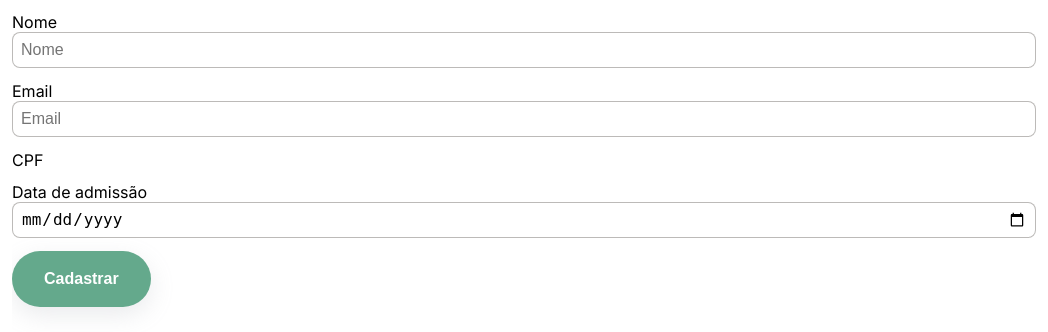
Scenario: <RegisterForm /> › should be able to validate Name field
Step 1. Type "l" into the field labelled "Nome" → (524, 50), box [12, 32, 1036, 68]
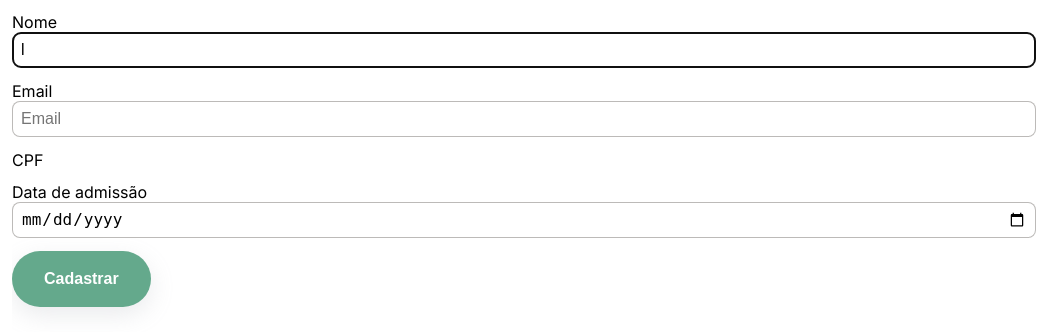
Step 2. Click the button "Cadastrar" → (81, 279), box [12, 251, 151, 307]
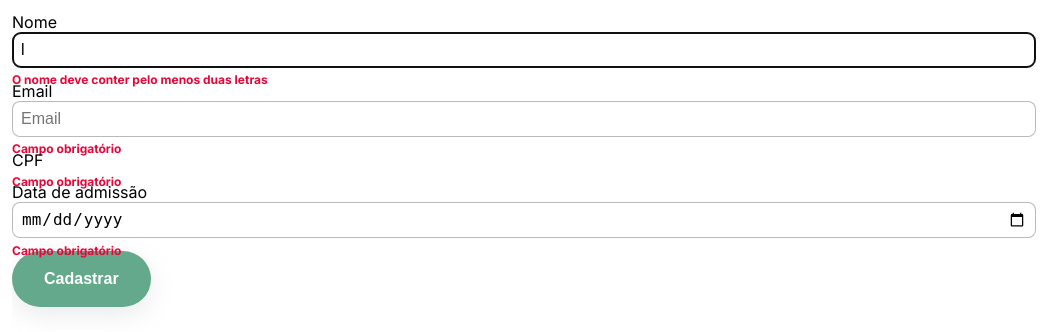
Now the text "O nome deve conter pelo menos duas letras" is shown, box [12, 72, 268, 87]
Step 3. Type "u" into the field labelled "Nome" → (524, 50), box [12, 32, 1036, 68]
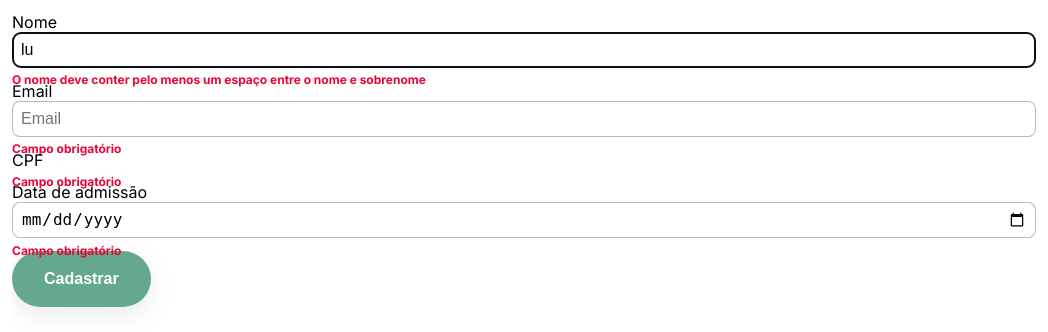
Now the text "O nome deve conter pelo menos um espaço entre o nome e sobrenome" is shown, box [12, 72, 426, 87]
Step 4. Replace the text in the field labelled "Nome" with "1" → (524, 50), box [12, 32, 1036, 68]
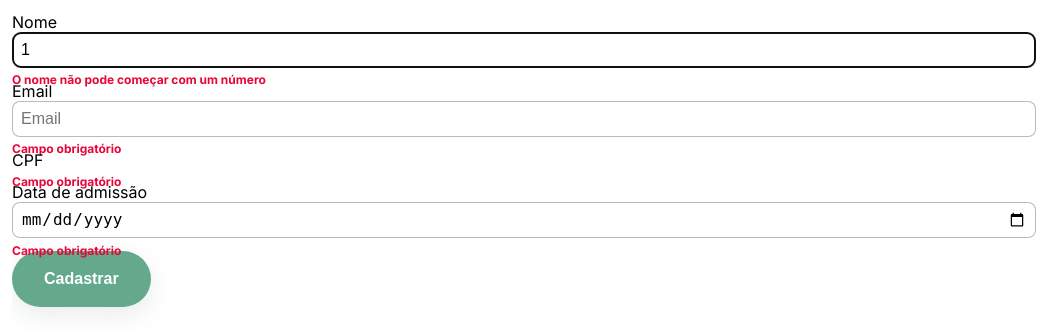
Now the text "O nome não pode começar com um número" is shown, box [12, 72, 266, 87]
